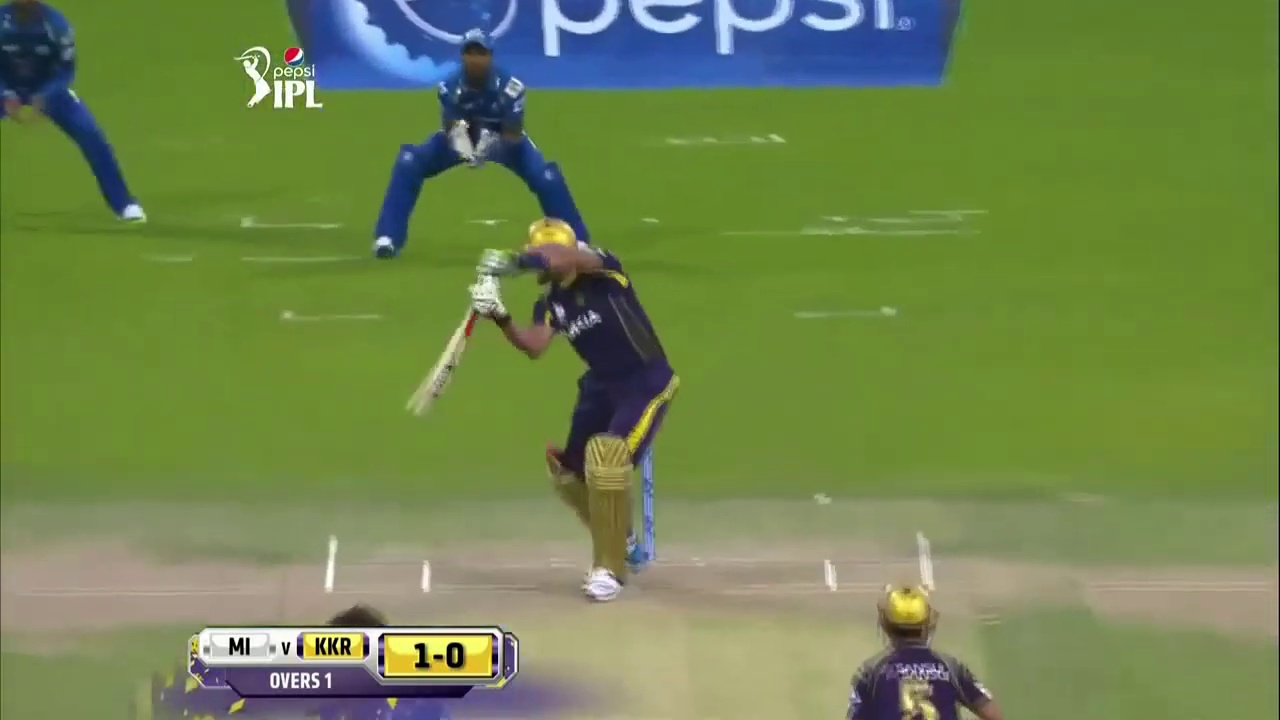bat: (396, 317, 488, 424)
